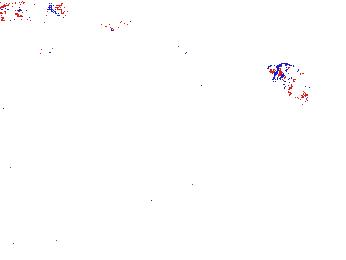X-ray fish: (264, 62, 314, 99)
glassfish: (85, 10, 211, 80)
redtail glassfish: (1, 1, 65, 21)
